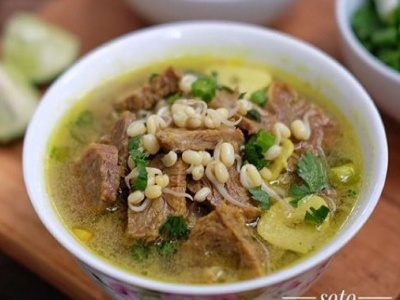soto: (62, 63, 346, 266)
